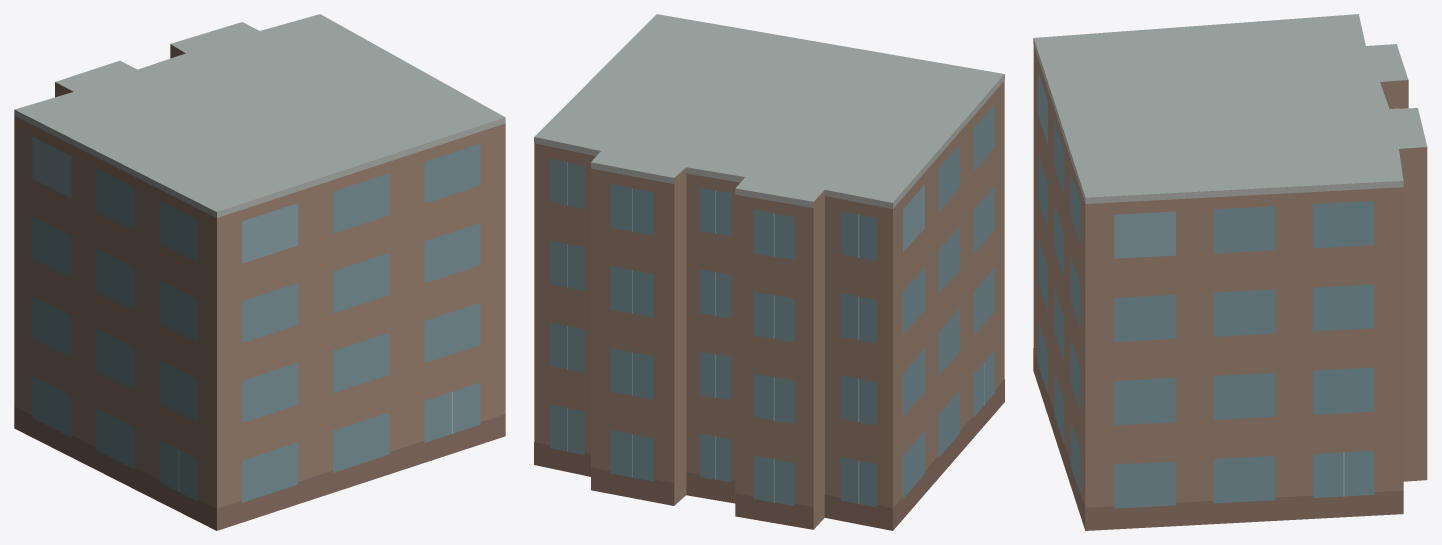
The model's file is survey-upis-32926183.glb.
3 views of the same model, side by side, from view 1: azimuth 30°, elevation 25°; view 2: azimuth 150°, elevation 25°; view 3: azimuth 270°, elevation 25° (orthographic). The views are drawn at different scales.
Parts seen in each view (by area): view 1: survey-upis-32926183.tmp; view 2: survey-upis-32926183.tmp; view 3: survey-upis-32926183.tmp.
Part boxes in pixels (x1,y1,x2,y2): survey-upis-32926183.tmp: (14,14,505,530); survey-upis-32926183.tmp: (534,14,1004,530); survey-upis-32926183.tmp: (1033,14,1427,530).
Size of the model in its own units: 15.21 by 12.85 by 13.78.
